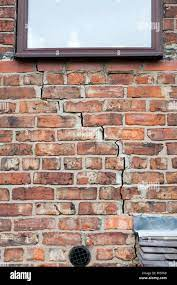stairstep_crack: (33, 60, 127, 214)
